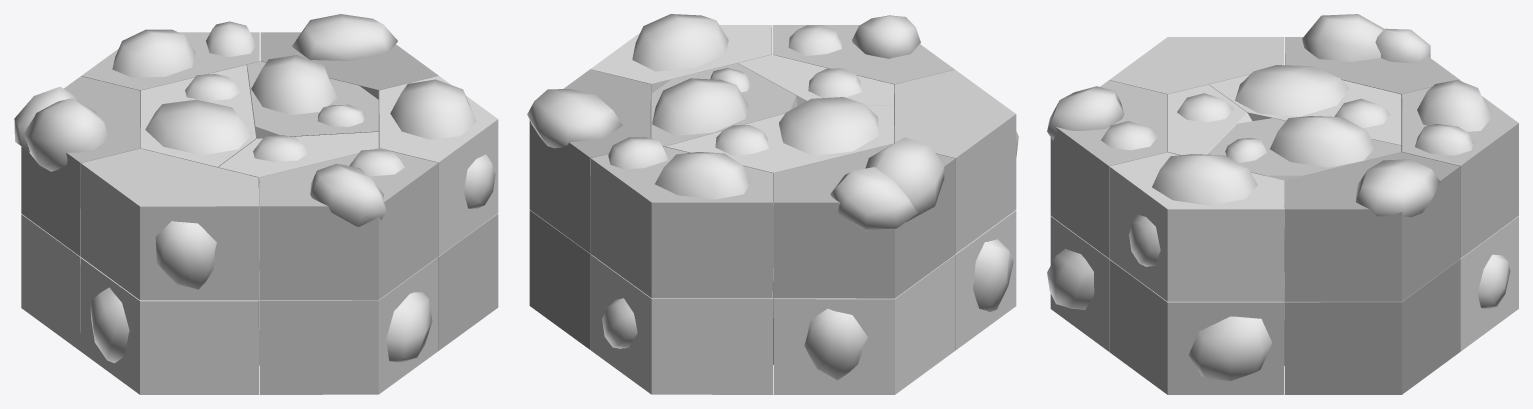
File: 4_Dest_Hex_20.fbx
3 renders of one model, left to right at view 1: azimuth 30°, elevation 25°; view 2: azimuth 150°, elevation 25°; view 3: azimuth 270°, elevation 25°, orthographic. The views are drawn at different scales.
Visible parts, largest first — view 1: Hex1.001_cell.045, Hex1.001_cell.047, Hex1.001_cell.044, Hex1.001_cell.046, Hex1.001_cell.049, Hex1.001_cell.043, Hex1.001_cell.012_cell.010, Hex1.001_cell.012_cell.011, Hex1.001_cell.041, Hex1.001_cell.039, Hex1.001_cell.042, Hex1.001_cell.048 (+1 smaller); view 2: Hex1.001_cell.039, Hex1.001_cell.049, Hex1.001_cell.038, Hex1.001_cell.048, Hex1.001_cell.041, Hex1.001_cell.047, Hex1.001_cell.012_cell.010, Hex1.001_cell.043, Hex1.001_cell.045, Hex1.001_cell.012_cell.011, Hex1.001_cell.046, Hex1.001_cell.040 (+1 smaller); view 3: Hex1.001_cell.043, Hex1.001_cell.041, Hex1.001_cell.042, Hex1.001_cell.040, Hex1.001_cell.045, Hex1.001_cell.039, Hex1.001_cell.049, Hex1.001_cell.012_cell.010, Hex1.001_cell.012_cell.011, Hex1.001_cell.047, Hex1.001_cell.044, Hex1.001_cell.038 (+1 smaller).
Part boxes in pixels (x1,y1,x2,y2): Hex1.001_cell.045: (259, 148, 438, 300); Hex1.001_cell.047: (81, 148, 258, 300); Hex1.001_cell.044: (259, 257, 438, 394); Hex1.001_cell.046: (80, 257, 258, 394); Hex1.001_cell.049: (14, 76, 140, 256); Hex1.001_cell.043: (379, 76, 498, 256); Hex1.001_cell.012_cell.010: (141, 65, 256, 167); Hex1.001_cell.012_cell.011: (247, 55, 378, 138); Hex1.001_cell.041: (260, 14, 438, 147); Hex1.001_cell.039: (81, 21, 259, 148); Hex1.001_cell.042: (438, 213, 498, 350); Hex1.001_cell.048: (21, 214, 81, 350); Hex1.001_cell.039: (590, 137, 772, 298); Hex1.001_cell.049: (773, 137, 955, 298); Hex1.001_cell.038: (590, 254, 773, 394); Hex1.001_cell.048: (773, 255, 955, 394); Hex1.001_cell.041: (527, 69, 650, 253); Hex1.001_cell.047: (894, 70, 1018, 253); Hex1.001_cell.012_cell.010: (666, 97, 893, 268); Hex1.001_cell.043: (590, 14, 771, 137); Hex1.001_cell.045: (772, 15, 954, 142); Hex1.001_cell.012_cell.011: (651, 63, 797, 146); Hex1.001_cell.046: (955, 210, 1016, 350); Hex1.001_cell.040: (529, 210, 590, 349); Hex1.001_cell.043: (1109, 152, 1284, 301); Hex1.001_cell.041: (1285, 152, 1460, 301); Hex1.001_cell.042: (1109, 259, 1284, 394); Hex1.001_cell.040: (1285, 259, 1460, 394); Hex1.001_cell.045: (1047, 80, 1167, 258); Hex1.001_cell.039: (1402, 80, 1518, 258); Hex1.001_cell.049: (1285, 14, 1459, 152); Hex1.001_cell.012_cell.010: (1209, 65, 1401, 145); Hex1.001_cell.012_cell.011: (1207, 116, 1401, 272); Hex1.001_cell.047: (1109, 37, 1284, 152); Hex1.001_cell.044: (1047, 216, 1109, 351); Hex1.001_cell.038: (1460, 216, 1518, 351).
Bounding box in the file's own units: 1.12 × 0.5871 × 1.16.
